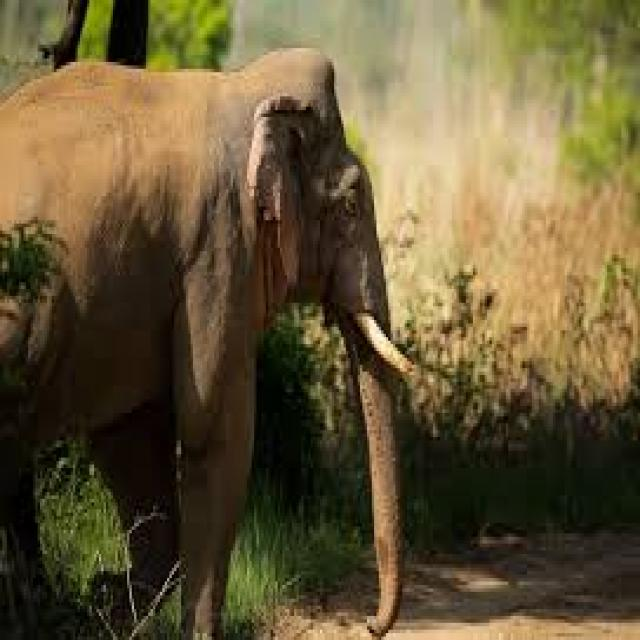Elephant: (0, 55, 443, 636)
